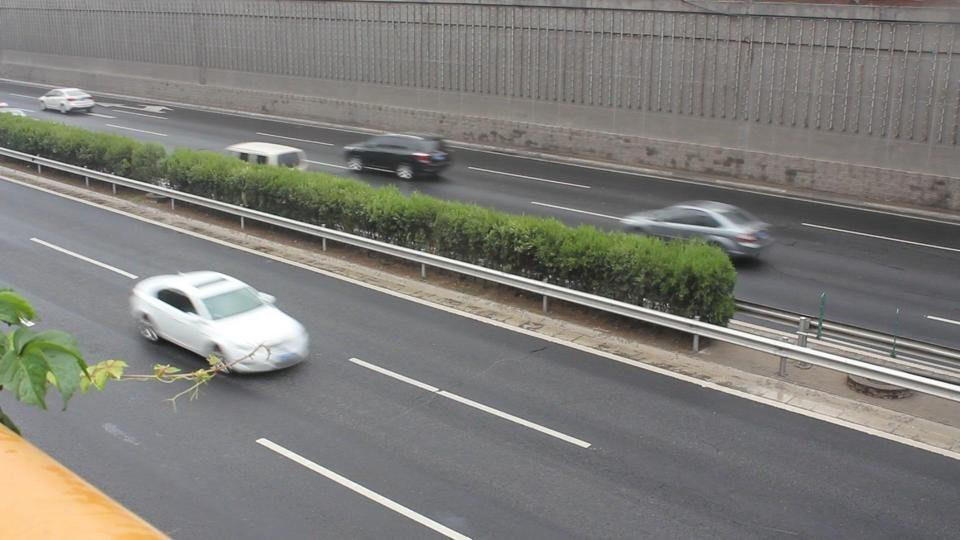car: (127, 269, 312, 375), (621, 201, 773, 262), (342, 133, 452, 180), (223, 141, 305, 169), (38, 87, 96, 115)
